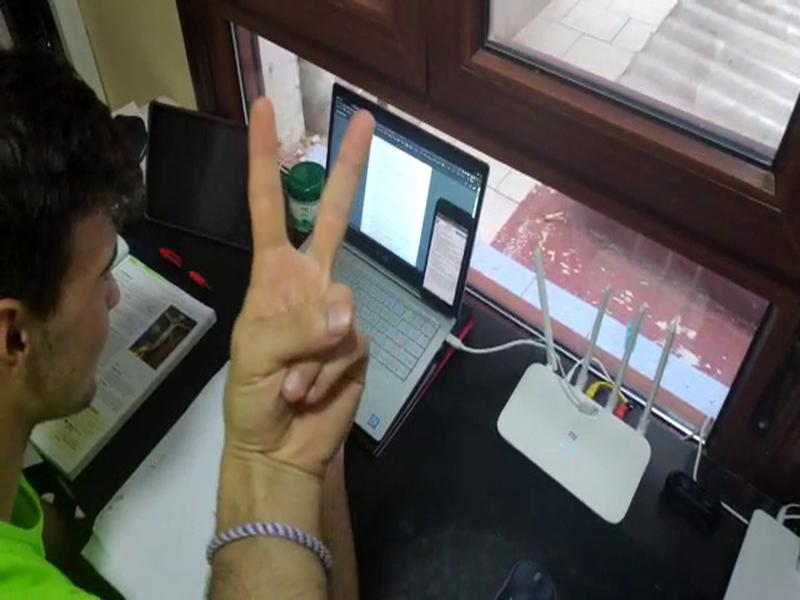Peace: (216, 90, 382, 469)
